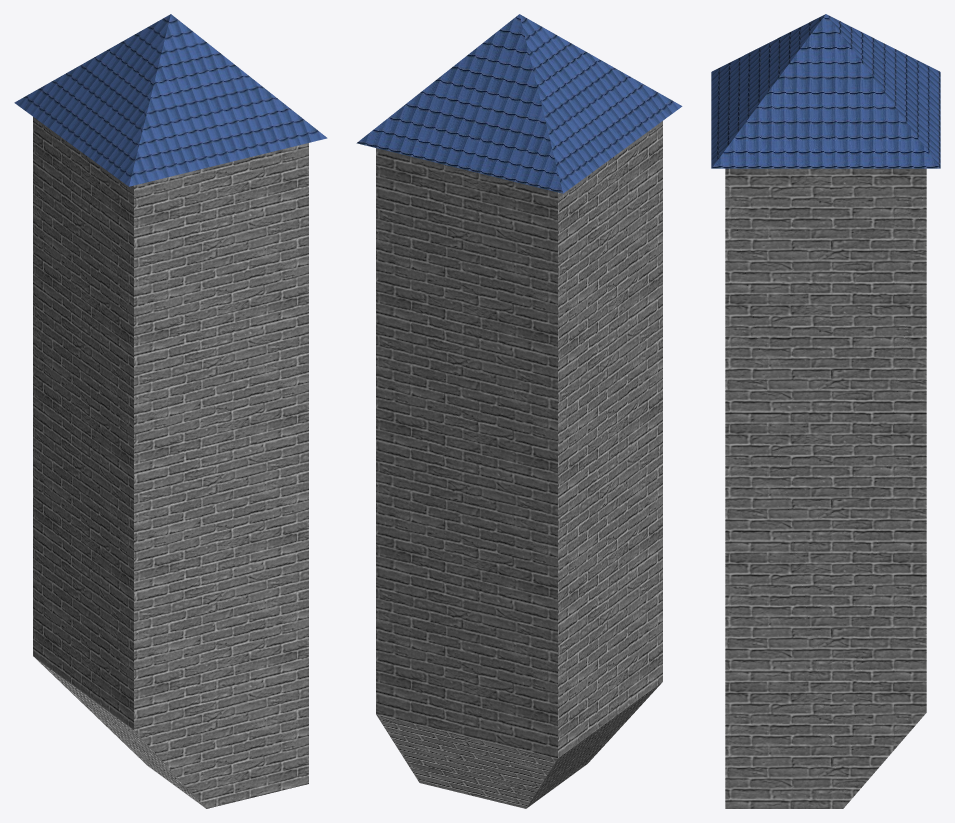
The model's file is sidetower.fbx.
The picture shows the model from 3 angles, left to right: view 1: azimuth 30°, elevation 25°; view 2: azimuth 150°, elevation 25°; view 3: azimuth 270°, elevation 25°; orthographic projection. The views are drawn at different scales.
Visible parts, largest first — view 1: sidetower; view 2: sidetower; view 3: sidetower.
Boxes of the visible parts, left/top/right/bottom form: sidetower: left=14, top=14, right=327, bottom=808; sidetower: left=356, top=14, right=682, bottom=808; sidetower: left=711, top=14, right=940, bottom=808.
Bounding box in the file's own units: 332 × 1204 × 332.
